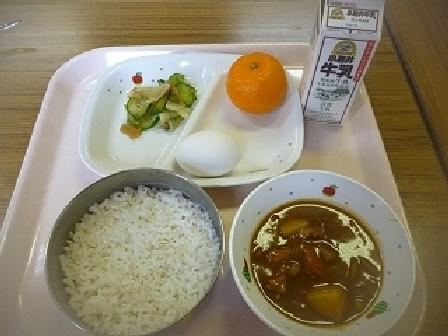Citrus: (216, 48, 293, 118)
Curry: (240, 176, 413, 332)
Milk: (291, 0, 394, 119)
Rice: (53, 175, 220, 333)
Salad: (113, 63, 198, 130)
boiled eggs: (169, 121, 242, 184)
